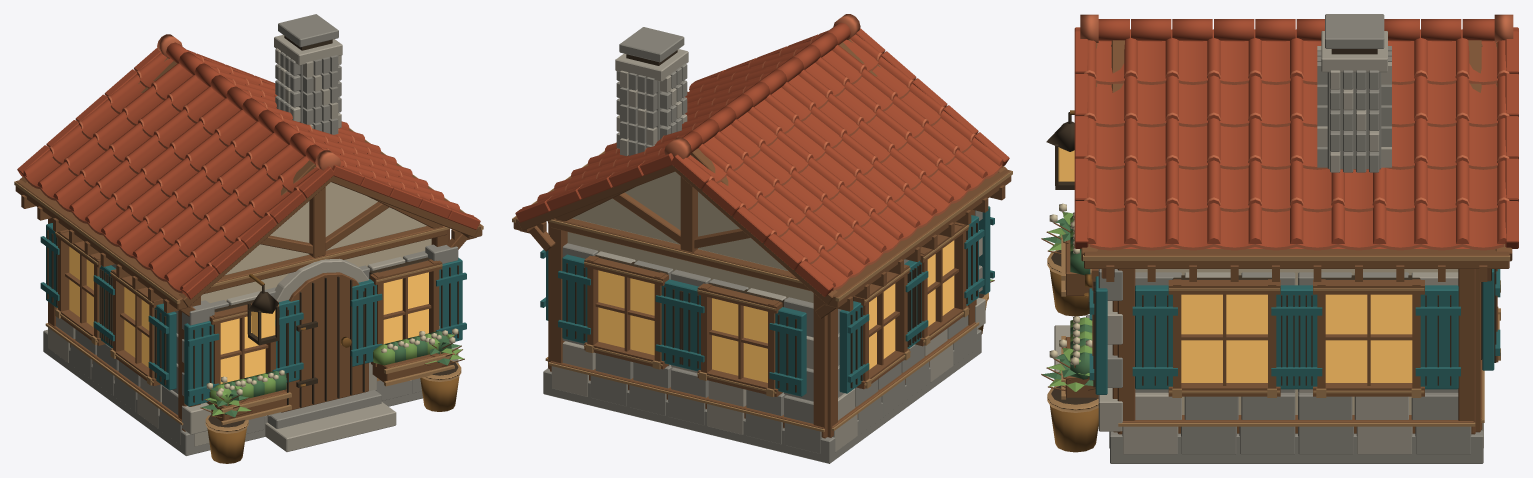
3 views of the same model, side by side, from view 1: azimuth 30°, elevation 25°; view 2: azimuth 150°, elevation 25°; view 3: azimuth 270°, elevation 25° (orthographic). The views are drawn at different scales.
Parts seen in each view (by area): view 1: alpine_tower_1_geometry; view 2: alpine_tower_1_geometry; view 3: alpine_tower_1_geometry.
Part boxes in pixels (bbox=[...]): alpine_tower_1_geometry: bbox=[14, 14, 483, 463]; alpine_tower_1_geometry: bbox=[512, 14, 1012, 463]; alpine_tower_1_geometry: bbox=[1041, 14, 1518, 463].
Size of the model in its own units: 0.818 by 0.78 by 0.8349.
